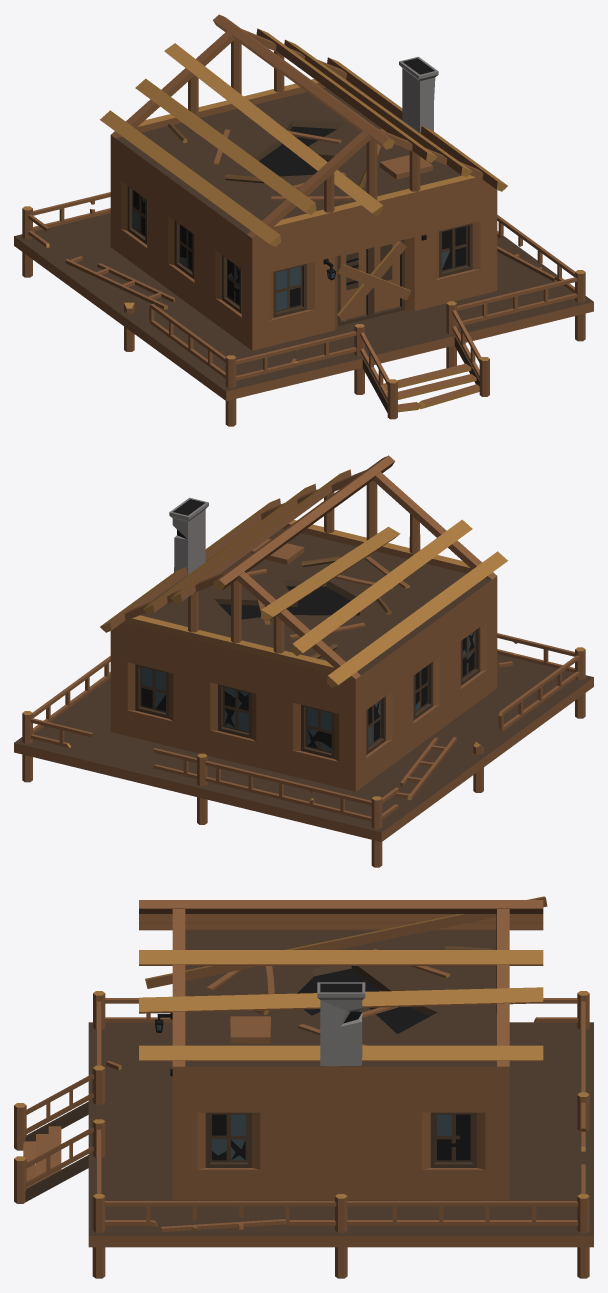
The model's file is apocalypse_building-cabin-big-apocalypse.fbx.
3 renders of one model, top to bottom at view 1: azimuth 30°, elevation 25°; view 2: azimuth 150°, elevation 25°; view 3: azimuth 270°, elevation 25°, orthographic. The views are drawn at different scales.
Parts seen in each view (by area): view 1: apocalypse_building_cabin_big_apocalypse; view 2: apocalypse_building_cabin_big_apocalypse; view 3: apocalypse_building_cabin_big_apocalypse.
Part boxes in pixels (x1,y1,x2,y2): apocalypse_building_cabin_big_apocalypse: (14,14,593,426); apocalypse_building_cabin_big_apocalypse: (14,455,593,867); apocalypse_building_cabin_big_apocalypse: (14,896,593,1278).
Size of the model in its own units: 174 by 105 by 200.
